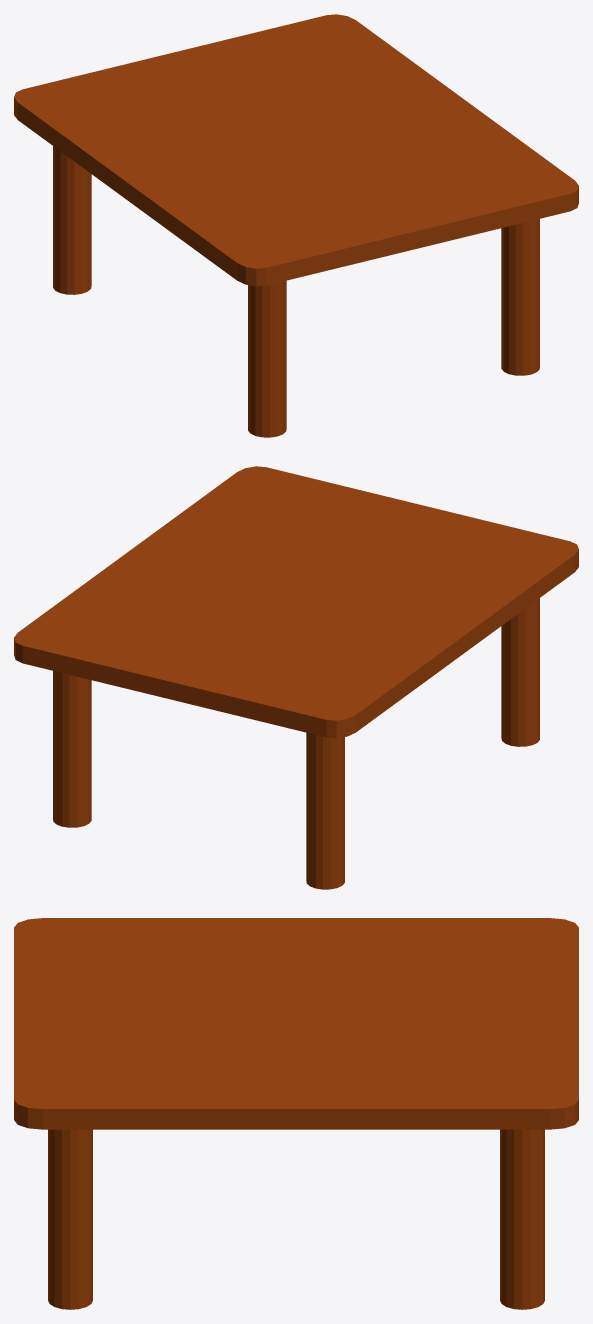
Rendered from Table Complete.glb.
3 views of the same model, one above another, from view 1: azimuth 30°, elevation 25°; view 2: azimuth 150°, elevation 25°; view 3: azimuth 270°, elevation 25° (orthographic). The views are drawn at different scales.
Parts seen in each view (by area): view 1: Cylinder; view 2: Cylinder; view 3: Cylinder.
Part boxes in pixels (x1,y1,x2,y2): Cylinder: [14, 14, 578, 437]; Cylinder: [14, 466, 578, 889]; Cylinder: [14, 918, 578, 1309].
Bounding box in the file's own units: 2 × 1.05 × 2.5.
Materials: 5 (5 with a texture image).
